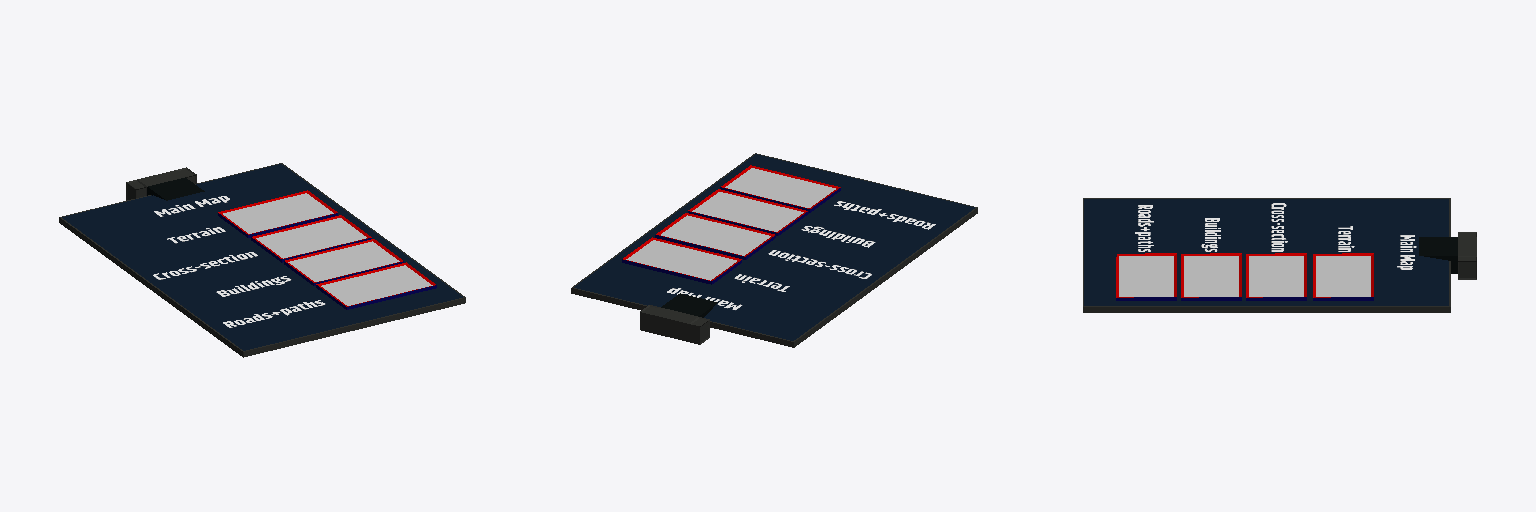
The picture shows the model from 3 angles: view 1: azimuth 30°, elevation 25°; view 2: azimuth 150°, elevation 25°; view 3: azimuth 270°, elevation 25°; orthographic projection.
Visible parts, largest first — view 1: clip_main_resized; view 2: clip_main_resized; view 3: clip_main_resized.
Part boxes in pixels (left/top/right/bottom): clip_main_resized: left=59, top=163, right=465, bottom=357; clip_main_resized: left=571, top=153, right=977, bottom=347; clip_main_resized: left=1083, top=198, right=1476, bottom=312.
Bounding box in the file's own units: 0.2144 × 0.0169 × 0.3289.
Materials: 16 (1 with a texture image).